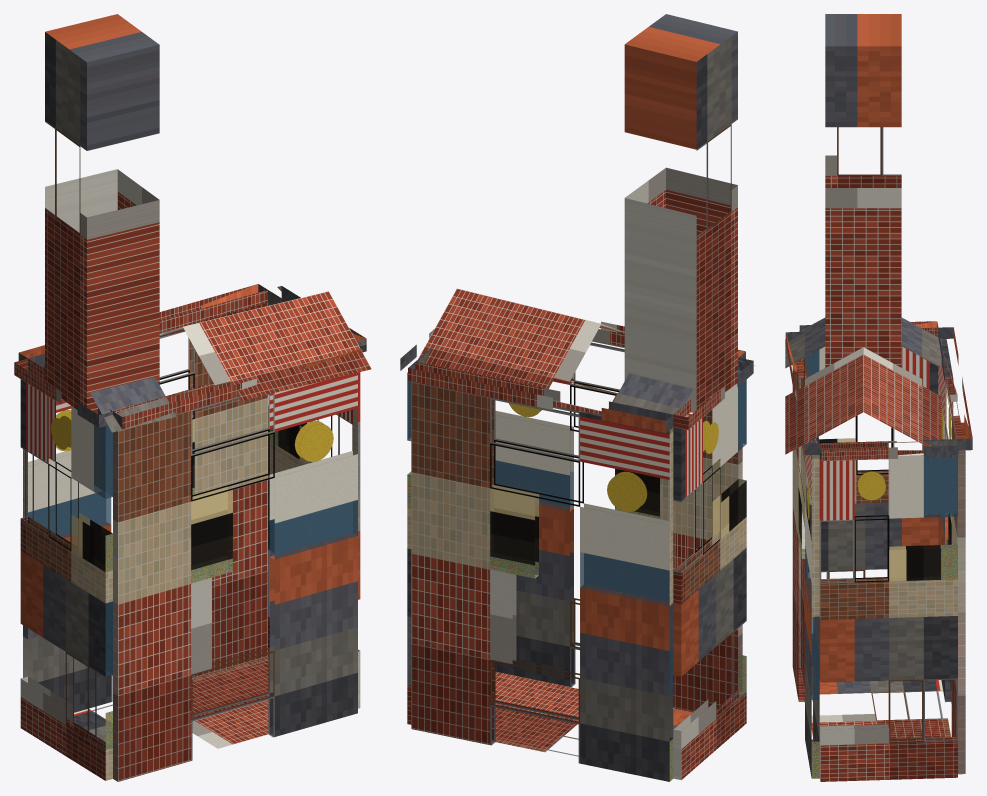
3 renders of one model, left to right at view 1: azimuth 30°, elevation 25°; view 2: azimuth 150°, elevation 25°; view 3: azimuth 270°, elevation 25°, orthographic. The views are drawn at different scales.
Parts seen in each view (by area): view 1: 361992697__wall_3_xb, 361992697__chimney_0_xb, 361992697__wall_1_xb, 361992697__wall_0_xb, 361992697_roof_-1_xb, 361992697__wall_3_xf, 361992697__base, 361992697__wall_0_xf, 361992697__wall_2_xb, 361992697__cornice_1, 361992697__cornice_3, 361992697__wall_1_xf (+1 smaller); view 2: 361992697__wall_1_xb, 361992697__chimney_0_xb, 361992697__wall_3_xb, 361992697__wall_0_xb, 361992697_roof_1_xb, 361992697__wall_1_xf, 361992697__base, 361992697__cornice_1, 361992697__wall_3_xf, 361992697__wall_0_xf, 361992697__wall_2_xb, 361992697__cornice_0; view 3: 361992697__wall_2_xb, 361992697__chimney_0_xb, 361992697__wall_3_xb, 361992697__wall_0_xb, 361992697_roof_-1_xb, 361992697_roof_1_xb, 361992697__wall_1_xb, 361992697__wall_2_xf, 361992697__base, 361992697__cornice_2, 361992697__wall_3_xf, 361992697__cornice_1 (+2 smaller).
Part boxes in pixels (<box>): 361992697__wall_3_xb: <box>113,372,357,781</box>; 361992697__chimney_0_xb: <box>45,14,159,414</box>; 361992697__wall_1_xb: <box>23,302,267,712</box>; 361992697__wall_0_xb: <box>20,379,112,780</box>; 361992697_roof_-1_xb: <box>90,291,371,432</box>; 361992697__wall_3_xf: <box>191,487,357,582</box>; 361992697__base: <box>74,657,268,748</box>; 361992697__wall_0_xf: <box>71,425,112,748</box>; 361992697__wall_2_xb: <box>268,303,360,708</box>; 361992697__cornice_1: <box>18,284,267,366</box>; 361992697__cornice_3: <box>113,347,362,429</box>; 361992697__wall_1_xf: <box>23,419,194,638</box>; 361992697__wall_1_xb: <box>411,381,673,781</box>; 361992697__chimney_0_xb: <box>624,14,737,412</box>; 361992697__wall_3_xb: <box>495,340,742,712</box>; 361992697__wall_0_xb: <box>673,370,746,780</box>; 361992697_roof_1_xb: <box>418,288,692,415</box>; 361992697__wall_1_xf: <box>490,428,672,780</box>; 361992697__base: <box>495,672,692,756</box>; 361992697__cornice_1: <box>408,362,673,433</box>; 361992697__wall_3_xf: <box>496,460,659,518</box>; 361992697__wall_0_xf: <box>712,370,746,691</box>; 361992697__wall_2_xb: <box>407,372,411,724</box>; 361992697__cornice_0: <box>673,358,753,430</box>; 361992697__wall_2_xb: <box>819,453,957,781</box>; 361992697__chimney_0_xb: <box>825,14,901,367</box>; 361992697__wall_3_xb: <box>792,358,819,778</box>; 361992697__wall_0_xb: <box>805,346,938,666</box>; 361992697_roof_-1_xb: <box>785,317,863,454</box>; 361992697_roof_1_xb: <box>863,317,941,446</box>; 361992697__wall_1_xb: <box>938,339,965,774</box>; 361992697__wall_2_xf: <box>889,457,957,580</box>; 361992697__base: <box>811,667,950,738</box>; 361992697__cornice_2: <box>819,439,958,461</box>; 361992697__wall_3_xf: <box>799,455,819,777</box>; 361992697__cornice_1: <box>938,327,972,450</box>.
Size of the model in its own units: 0.596 by 1.4 by 0.3674.
1 material, 1 textured.
